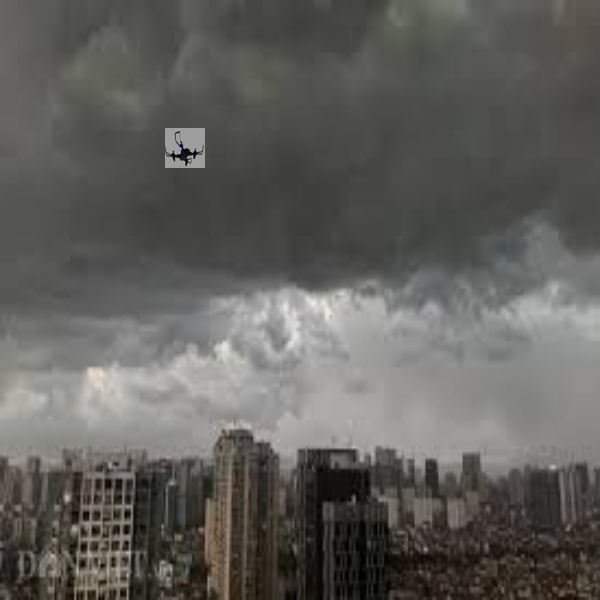drone: (159, 128, 207, 168)
